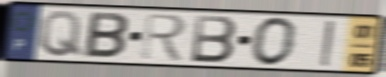B: (189, 14, 239, 66), (82, 10, 131, 61)
I: (318, 19, 336, 69)
O: (250, 15, 300, 68)
Q: (38, 9, 84, 59)
R: (140, 11, 189, 64)
